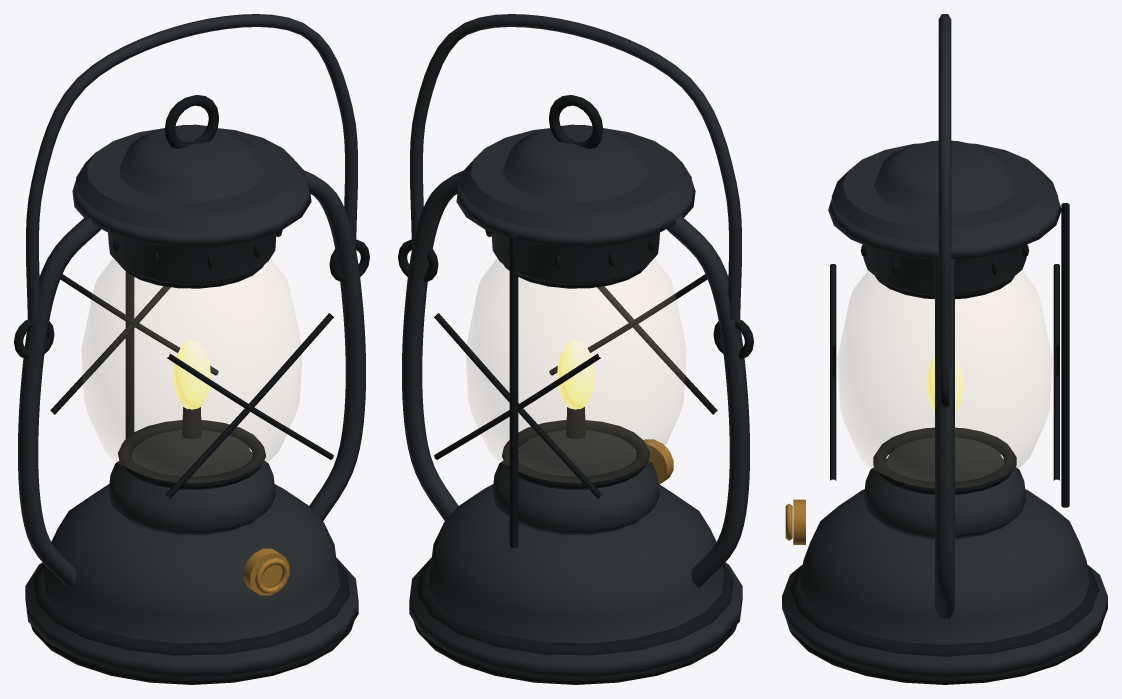
Rendered from lantern.glb.
3 renders of one model, left to right at view 1: azimuth 30°, elevation 25°; view 2: azimuth 150°, elevation 25°; view 3: azimuth 270°, elevation 25°, orthographic. The views are drawn at different scales.
Visible parts, largest first — view 1: lanternFuelTank, lanternGlassGlobe, lanternVentStack, lanternBurnerCollar, lanternCapPlate, lanternCarryBail, lanternSideFrameL, lanternSideFrameR, lanternTankSeams, lanternLowerGlassRim, lanternBaseRing, lanternFlameOuter (+12 smaller); view 2: lanternFuelTank, lanternGlassGlobe, lanternVentStack, lanternBurnerCollar, lanternCapPlate, lanternCarryBail, lanternSideFrameL, lanternSideFrameR, lanternTankSeams, lanternLowerGlassRim, lanternRearSpine, lanternBaseRing (+11 smaller); view 3: lanternFuelTank, lanternGlassGlobe, lanternVentStack, lanternBurnerCollar, lanternCapPlate, lanternSideFrameR, lanternCarryBail, lanternTankSeams, lanternLowerGlassRim, lanternRearSpine, lanternBaseRing, lanternGuardBRear (+3 smaller).
Part boxes in pixels (x1,y1,x2,y2): lanternFuelTank: (25, 484, 358, 677); lanternGlassGlobe: (82, 258, 301, 482); lanternVentStack: (72, 124, 311, 285); lanternBurnerCollar: (108, 430, 275, 534); lanternCapPlate: (76, 128, 307, 231); lanternCarryBail: (26, 14, 357, 334); lanternSideFrameL: (18, 215, 101, 587); lanternSideFrameR: (305, 171, 365, 520); lanternTankSeams: (34, 561, 349, 655); lanternLowerGlassRim: (118, 420, 265, 489); lanternBaseRing: (26, 611, 353, 684); lanternFlameOuter: (173, 340, 210, 409); lanternFuelTank: (409, 484, 742, 677); lanternGlassGlobe: (466, 258, 685, 482); lanternVentStack: (456, 124, 695, 285); lanternBurnerCollar: (492, 430, 659, 534); lanternCapPlate: (460, 128, 691, 231); lanternCarryBail: (410, 14, 741, 334); lanternSideFrameL: (666, 215, 749, 587); lanternSideFrameR: (402, 171, 462, 520); lanternTankSeams: (418, 561, 733, 655); lanternLowerGlassRim: (502, 420, 649, 489); lanternRearSpine: (509, 234, 518, 547); lanternBaseRing: (414, 611, 741, 684); lanternFuelTank: (782, 489, 1107, 677); lanternGlassGlobe: (838, 271, 1051, 487); lanternVentStack: (828, 140, 1061, 295); lanternBurnerCollar: (863, 437, 1026, 539); lanternCapPlate: (831, 143, 1058, 244); lanternSideFrameR: (935, 258, 954, 618); lanternCarryBail: (938, 14, 951, 369); lanternTankSeams: (790, 566, 1099, 656); lanternLowerGlassRim: (873, 427, 1016, 494); lanternRearSpine: (1061, 203, 1069, 507); lanternBaseRing: (787, 622, 1102, 684); lanternGuardBRear: (1053, 264, 1059, 480).
Bounding box in the file's own units: 0.3271 × 0.5206 × 0.2668.
